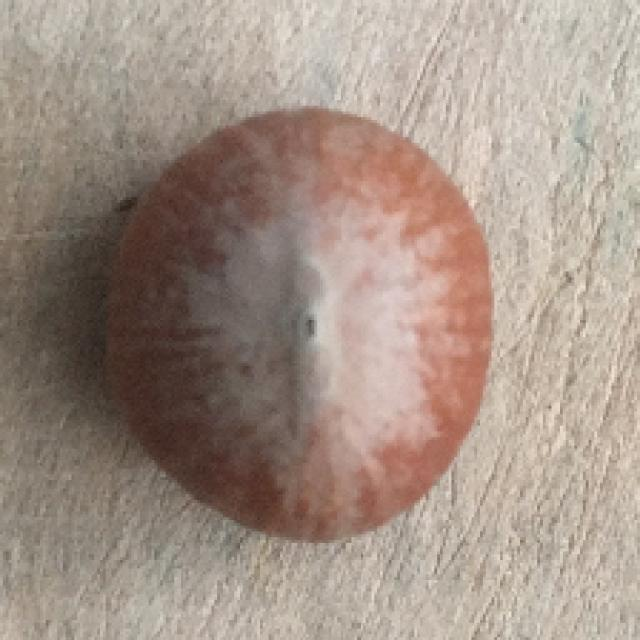qualityHazelnut: (99, 106, 502, 545)
